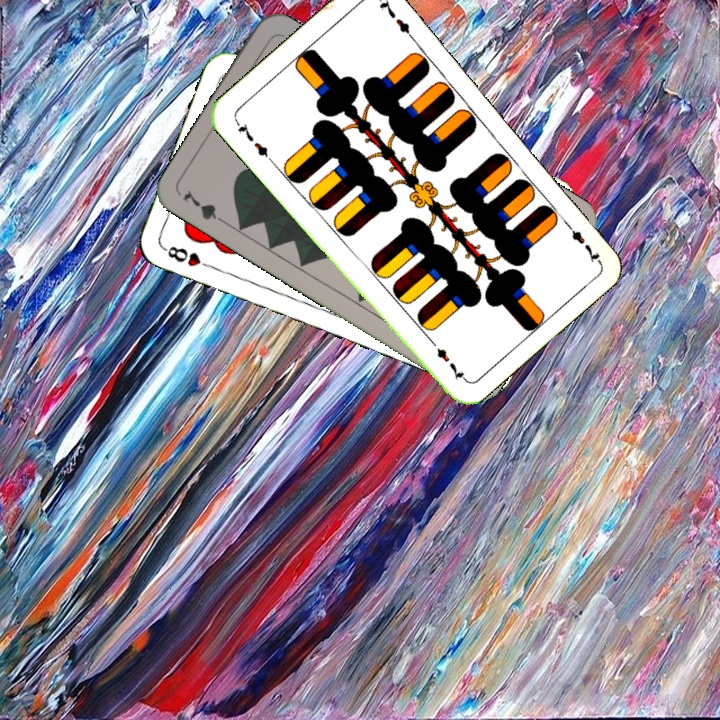E7: (558, 215, 603, 265), (231, 116, 275, 164)
G7: (178, 185, 231, 228)
H8: (159, 242, 217, 272)
